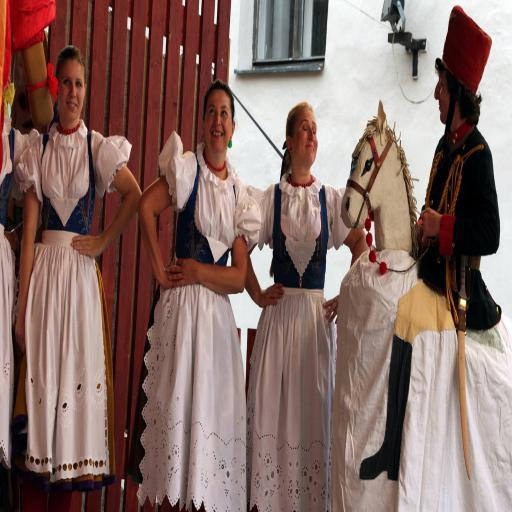horse: (339, 95, 418, 259)
